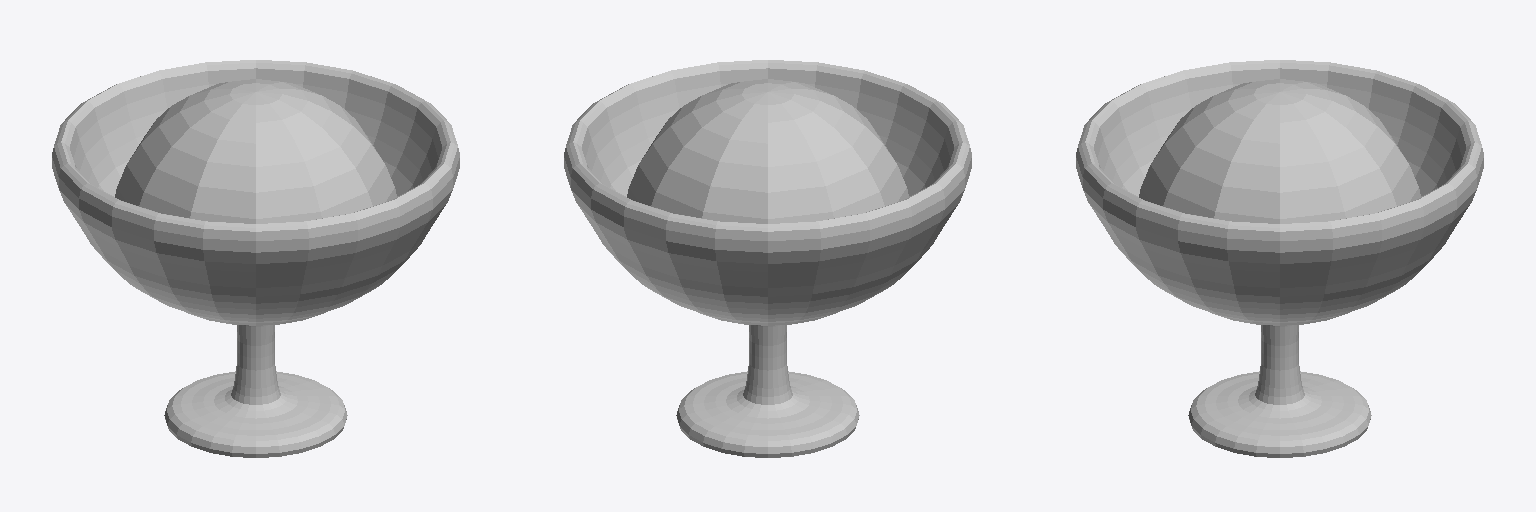
The model's file is Ice.obj.
The picture shows the model from 3 angles: view 1: azimuth 30°, elevation 25°; view 2: azimuth 150°, elevation 25°; view 3: azimuth 270°, elevation 25°; orthographic projection.
Bounding box in the file's own units: 73.17 × 64.8 × 73.17.